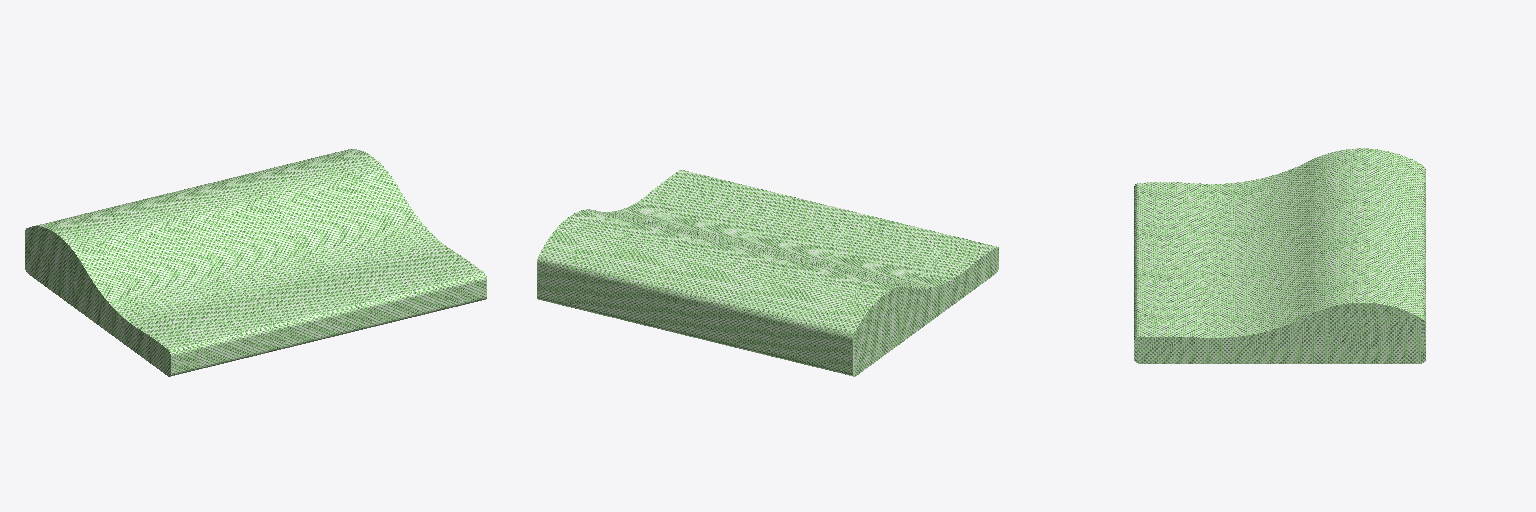
The picture shows the model from 3 angles: view 1: azimuth 30°, elevation 25°; view 2: azimuth 150°, elevation 25°; view 3: azimuth 270°, elevation 25°; orthographic projection.
Parts seen in each view (by area): view 1: green1; view 2: green1; view 3: green1.
Boxes of the visible parts, x1,y1,x2,y2 form: green1: [25, 149, 486, 376]; green1: [537, 170, 998, 376]; green1: [1134, 148, 1425, 363].
Size of the model in its own units: 5.72 by 1.05 by 4.58.
1 materials, 1 textured.